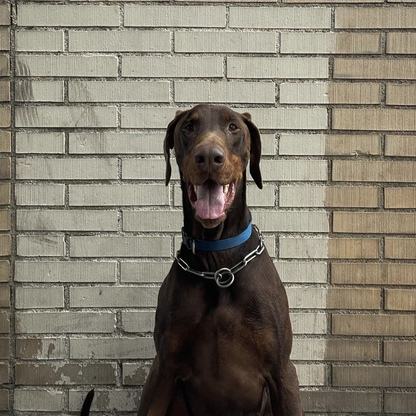doberman: (137, 99, 310, 416)
